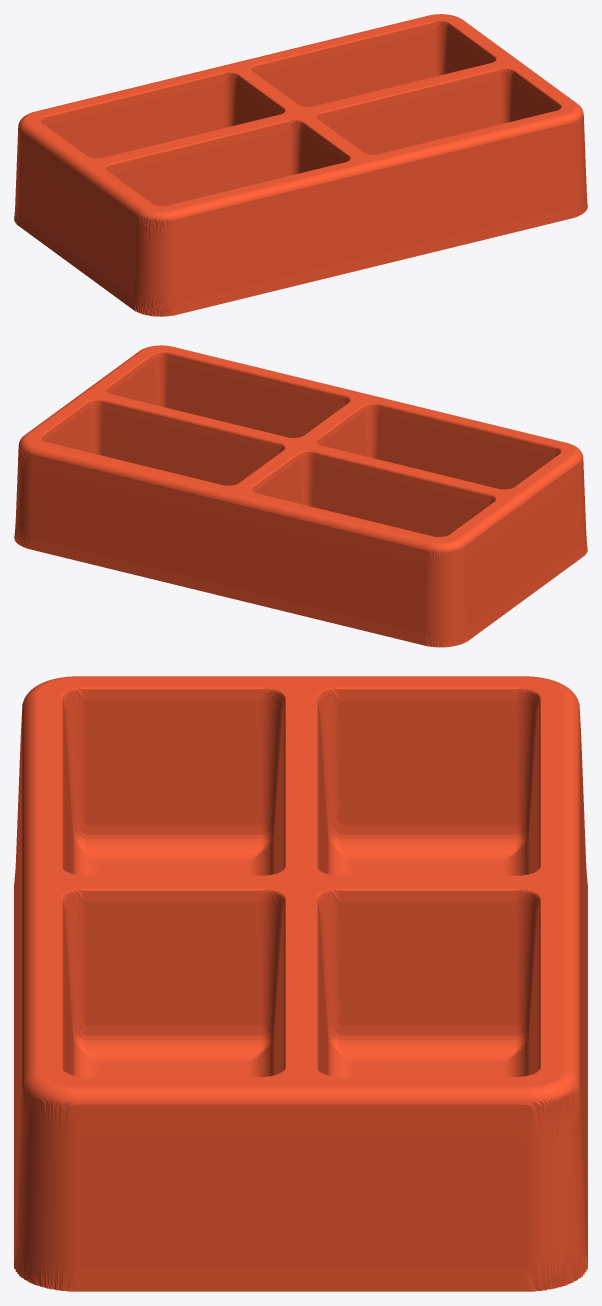
File: mold.glb
3 views of the same model, one above another, from view 1: azimuth 30°, elevation 25°; view 2: azimuth 150°, elevation 25°; view 3: azimuth 270°, elevation 25° (orthographic). The views are drawn at different scales.
Parts seen in each view (by area): view 1: geometry_0; view 2: geometry_0; view 3: geometry_0.
Part boxes in pixels (left/top/right/bottom): geometry_0: left=14, top=14, right=587, bottom=316; geometry_0: left=14, top=345, right=587, bottom=647; geometry_0: left=14, top=676, right=587, bottom=1291.
Bounding box in the file's own units: 0.1466 × 0.031 × 0.0828.
